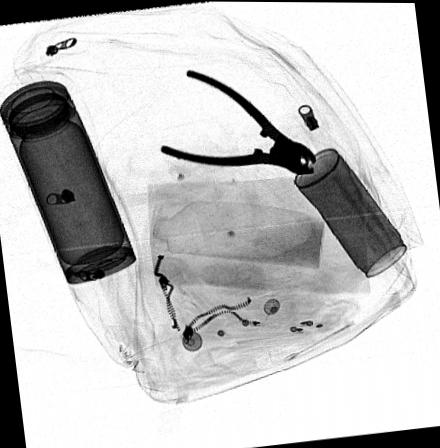Pliers: (159, 70, 317, 174)
